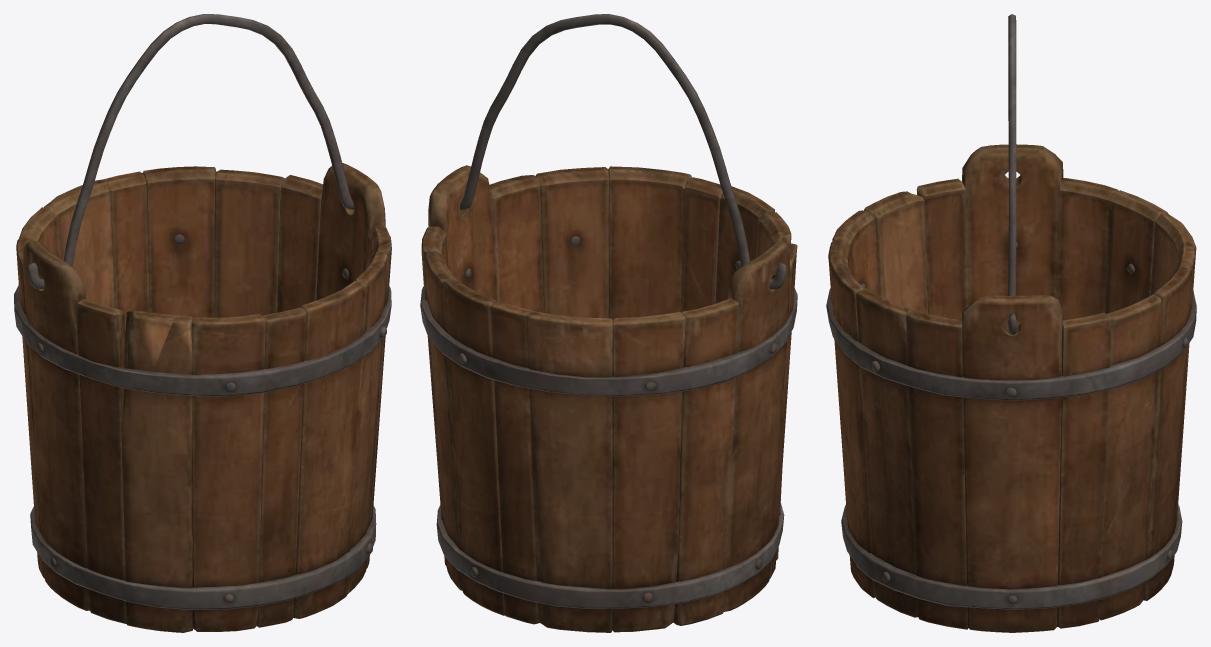
File: bucket.glb
3 views of the same model, side by side, from view 1: azimuth 30°, elevation 25°; view 2: azimuth 150°, elevation 25°; view 3: azimuth 270°, elevation 25° (orthographic).
Visible parts, largest first — view 1: wooden_bucket_01; view 2: wooden_bucket_01; view 3: wooden_bucket_01.
Boxes of the visible parts, left/top/right/bottom form: wooden_bucket_01: left=14, top=14, right=391, bottom=632; wooden_bucket_01: left=420, top=14, right=797, bottom=632; wooden_bucket_01: left=826, top=14, right=1196, bottom=632.
Size of the model in its own units: 0.367 by 0.5499 by 0.3422.
1 material, 1 textured.
